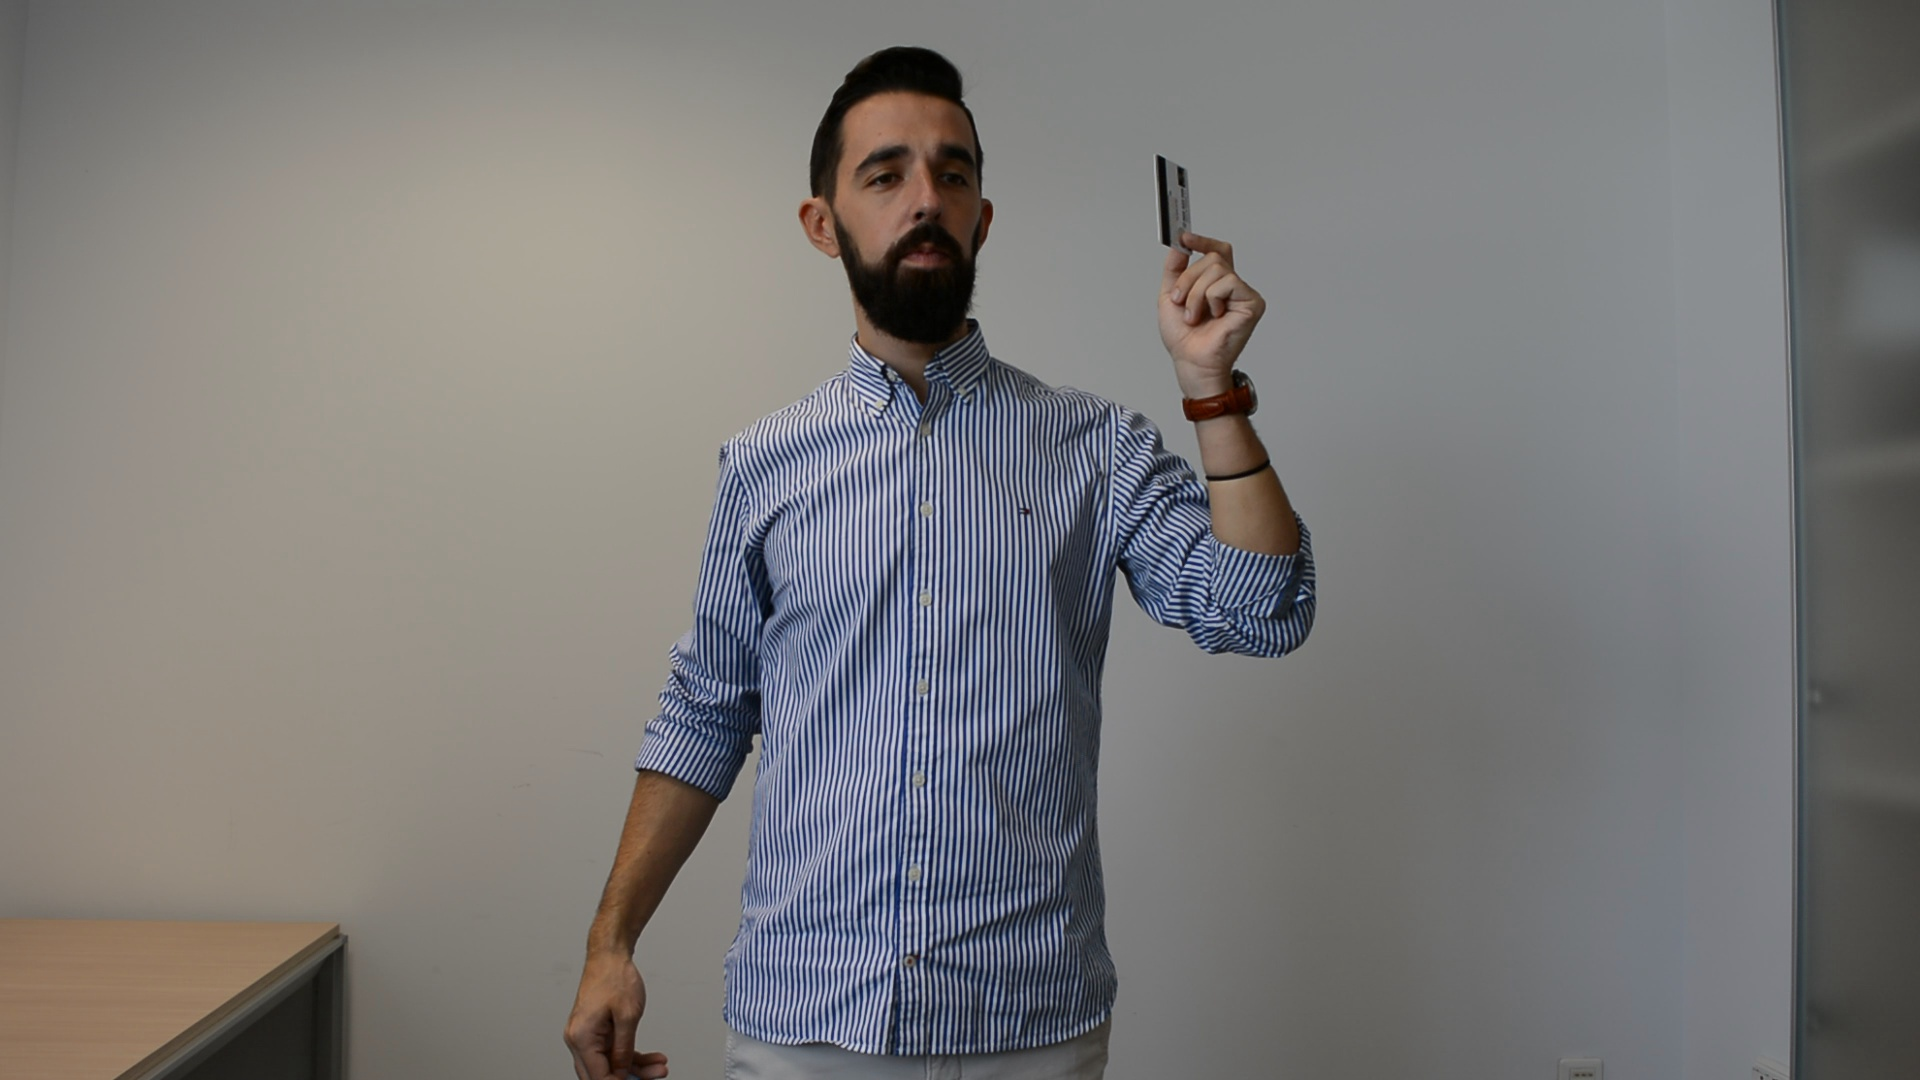tarjeta: (1153, 150, 1196, 258)
